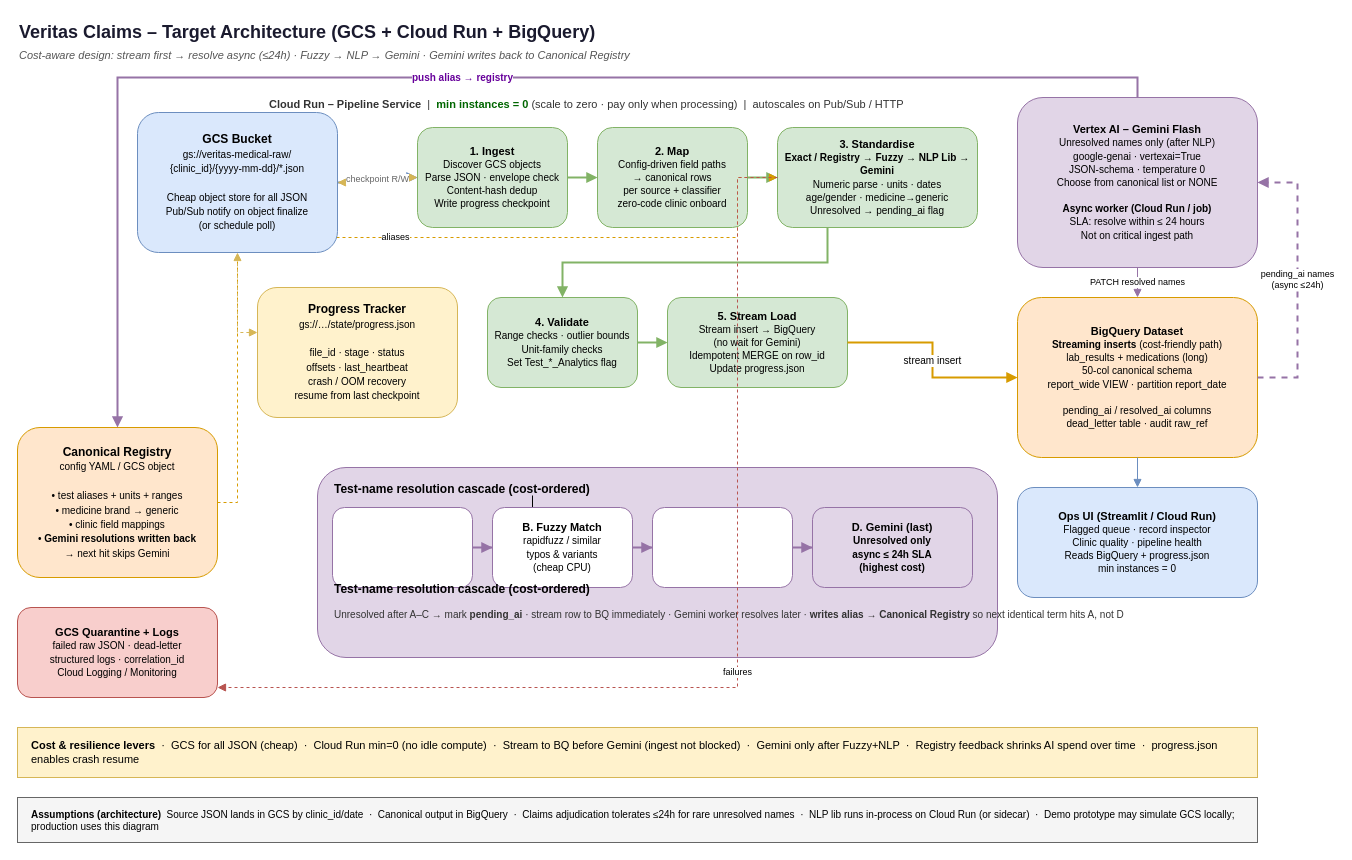
The diagram is 1352 pixels wide and 860 high, and some of its shapes have lost their labels. Here are the shapes that lost their labels. From the top down, the centre of each, then its label:
(x=402, y=547): A. Exact / Registry Canonical list + prior Gemini hits (free / instant)
(x=722, y=547): C. NLP Library spaCy / scispaCy or embedding nearest (local / mid cost)
